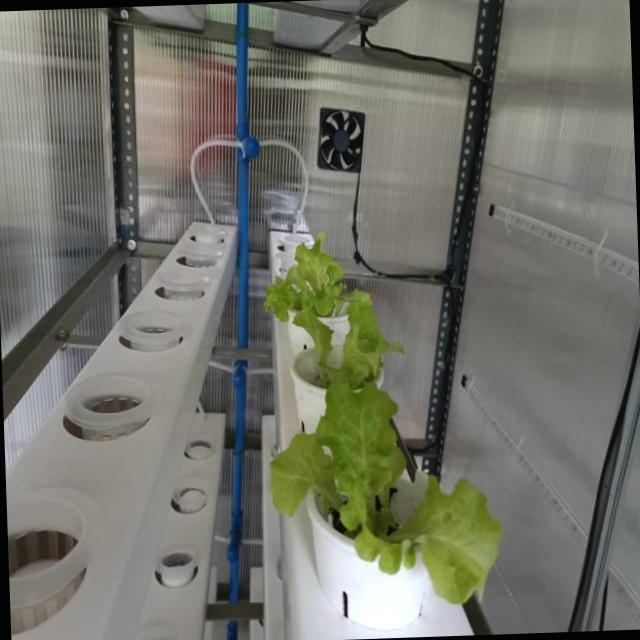Lettuce-Not-Ready-to-Harvest: (287, 287, 404, 390), (258, 229, 353, 326)
Lettuce-Ready-to-Harvest: (257, 368, 515, 610)
